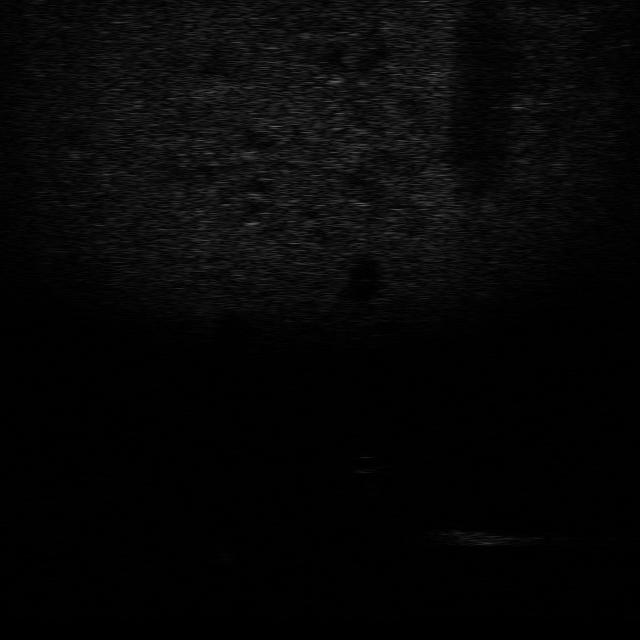ball: (341, 450, 390, 476)
metal bucket: (427, 520, 525, 550)
tyre: (192, 536, 252, 566)
